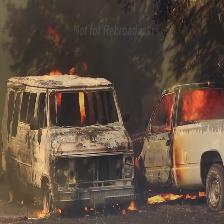fire: (130, 80, 224, 210), (41, 65, 108, 128)
